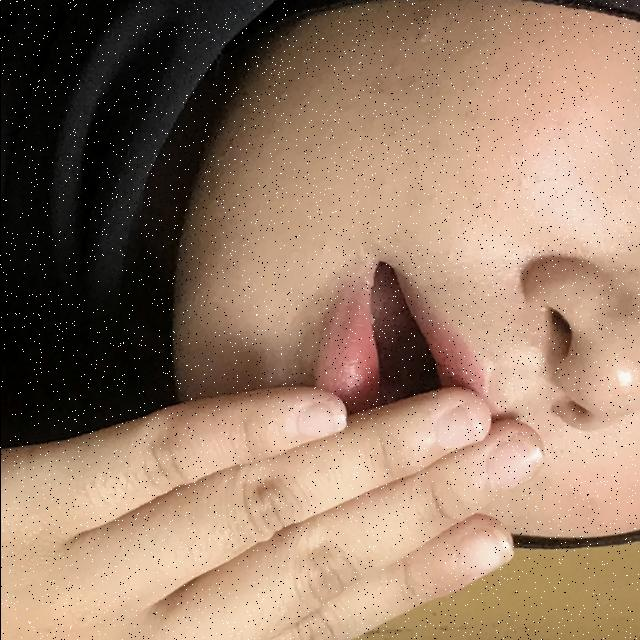ngantuk: (0, 110, 544, 640)
